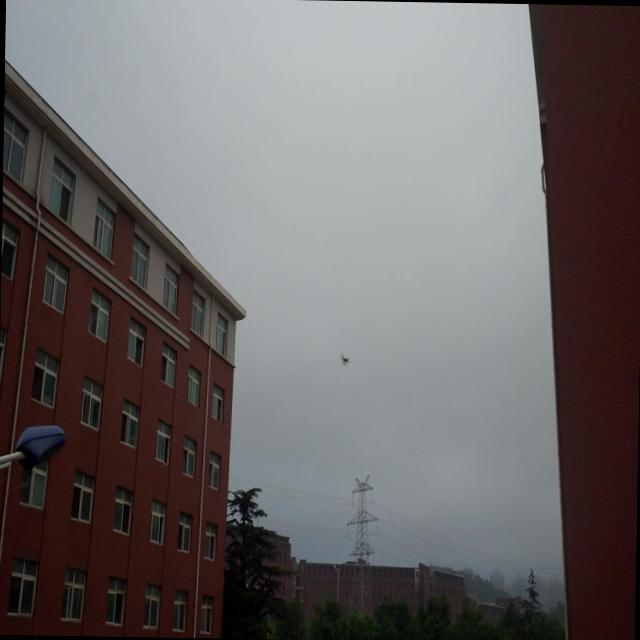drone: (338, 352, 351, 366)
